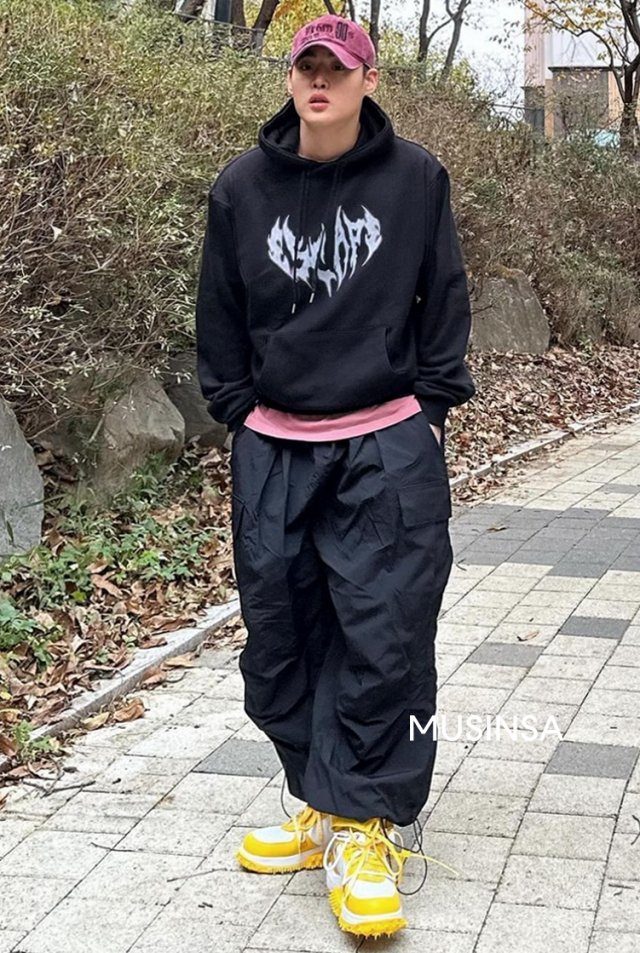Cap: (280, 14, 387, 73)
Hoodie: (194, 94, 482, 409)
Pants: (226, 419, 450, 825)
Shoes: (235, 793, 448, 939)
